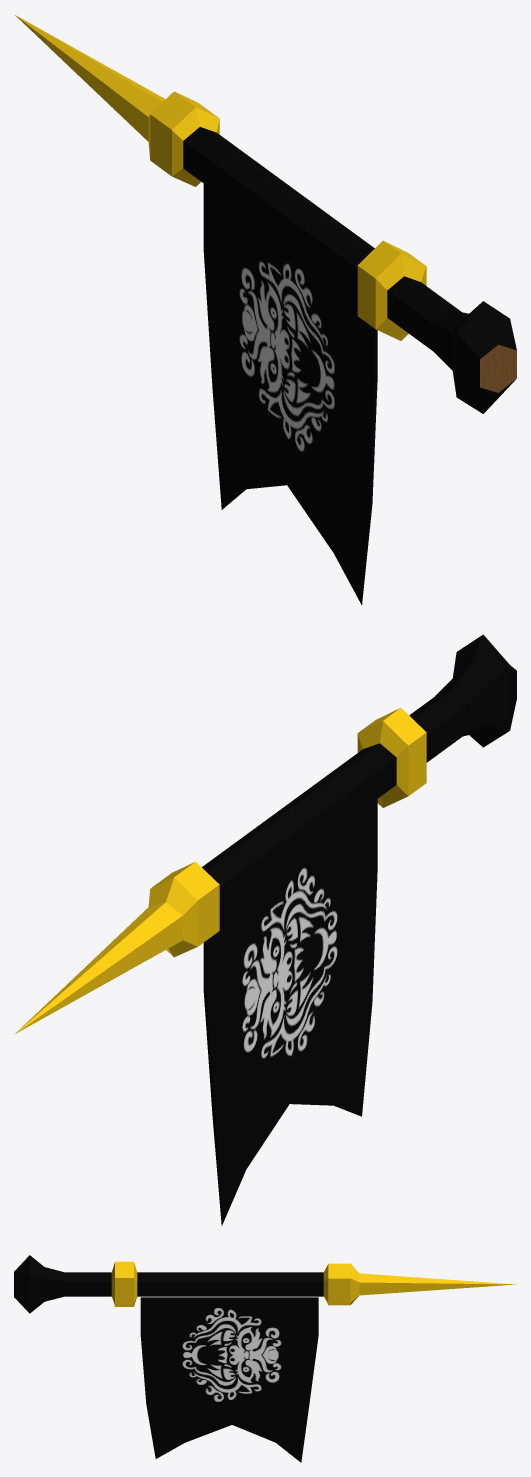
Rendered from sail_d_2.fbx.
3 views of the same model, one above another, from view 1: azimuth 30°, elevation 25°; view 2: azimuth 150°, elevation 25°; view 3: azimuth 270°, elevation 25° (orthographic). The views are drawn at different scales.
Visible parts, largest first — view 1: Cube.111; view 2: Cube.111; view 3: Cube.111.
Boxes of the visible parts, left/top/right/bottom form: Cube.111: left=15, top=15, right=516, bottom=604; Cube.111: left=14, top=634, right=516, bottom=1225; Cube.111: left=14, top=1255, right=516, bottom=1462.
Bounding box in the file's own units: 22.83 × 163 × 358.
